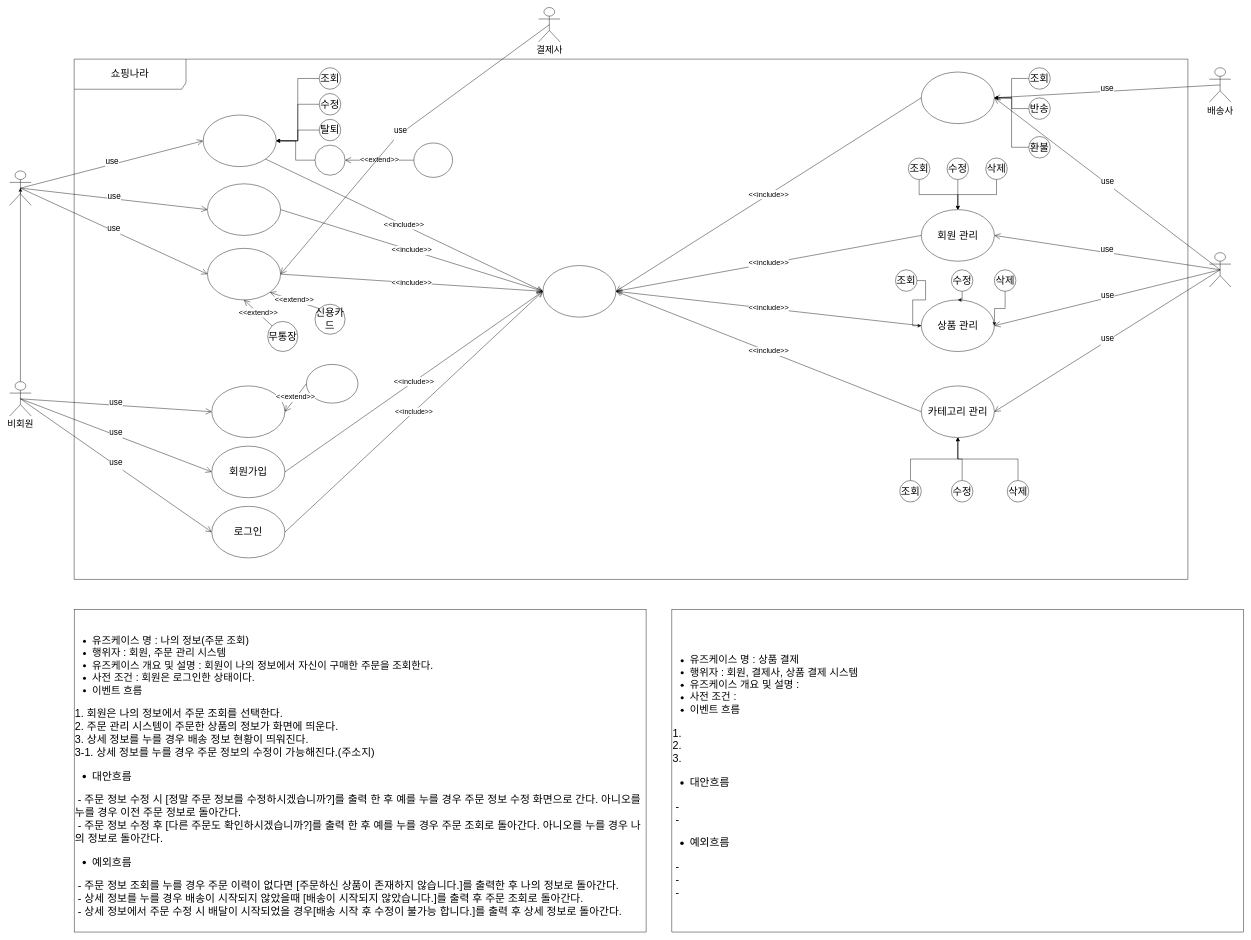
Image size: 1251x940. Some labels were removed from this diagram. The box of each missing label's shape, as (x1, y1, x2, y2) in pixels:
나의 정보: (203, 115, 276, 167)
배송 정보 확인: (413, 143, 453, 177)
상품 검색: (211, 385, 285, 438)
상품 결제: (207, 248, 281, 300)
상품 주문: (207, 183, 281, 235)
인증: (542, 265, 616, 317)
주문 관리: (921, 72, 994, 124)
주문 확인: (315, 145, 345, 175)
직원: (1209, 252, 1231, 287)
카테고리 상세검색: (306, 364, 358, 403)
회원: (9, 170, 31, 205)
